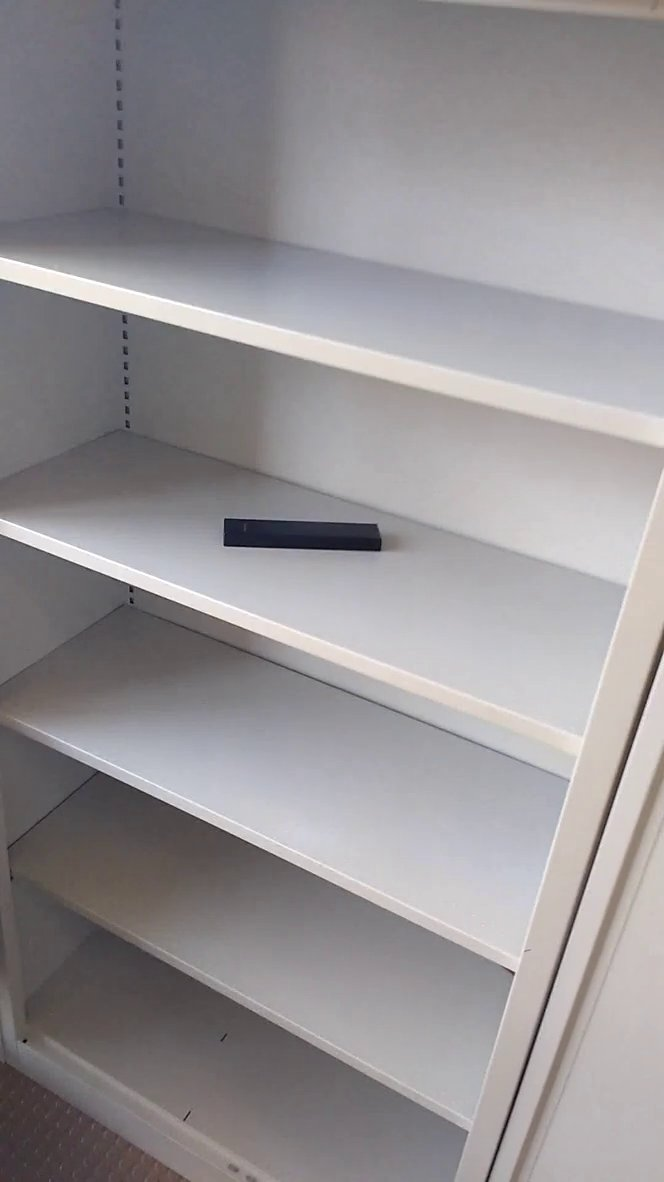remote: (218, 508, 392, 559)
